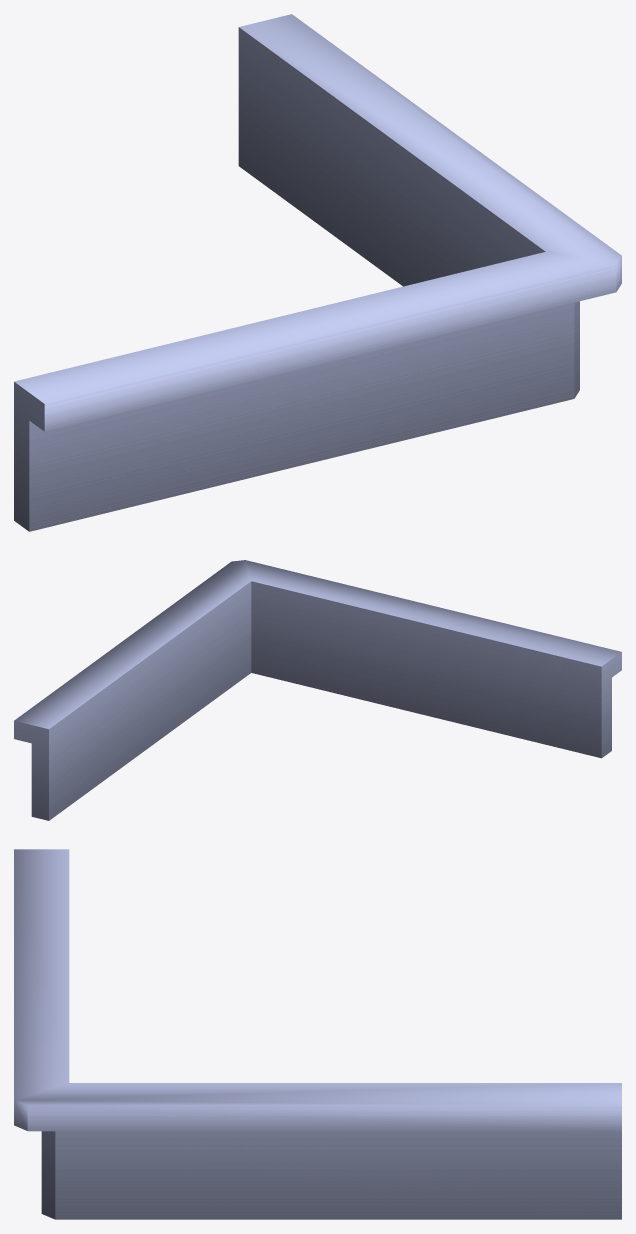
The model's file is border-high-corner.glb.
The picture shows the model from 3 angles, top to bottom: view 1: azimuth 30°, elevation 25°; view 2: azimuth 150°, elevation 25°; view 3: azimuth 270°, elevation 25°; orthographic projection. The views are drawn at different scales.
Visible parts, largest first — view 1: border-high-corner; view 2: border-high-corner; view 3: border-high-corner.
Boxes of the visible parts, x1,y1,x2,y2 form: border-high-corner: [14, 14, 621, 531]; border-high-corner: [14, 560, 621, 820]; border-high-corner: [14, 849, 621, 1219].
Size of the model in its own units: 2.2 by 0.5 by 2.2.
1 material, 1 textured.
